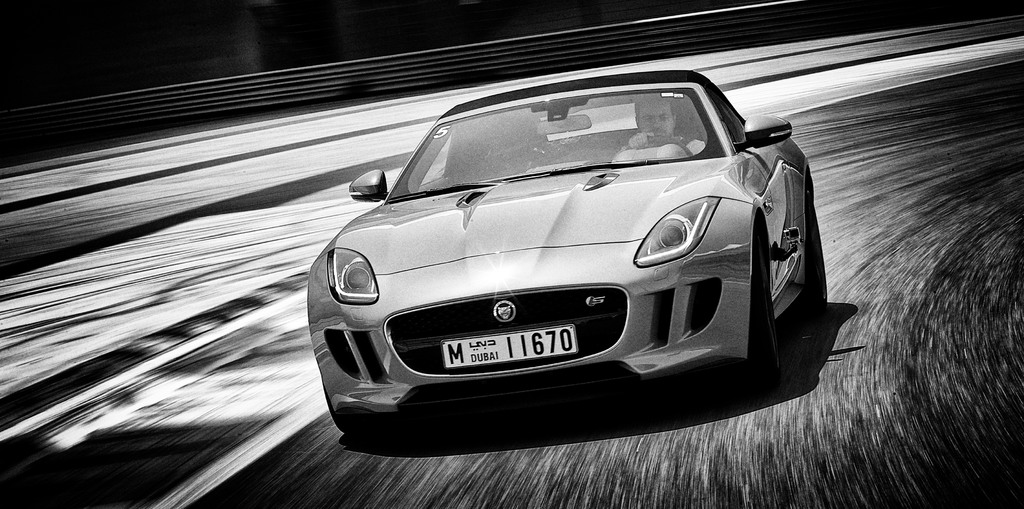Car: (301, 60, 849, 453)
